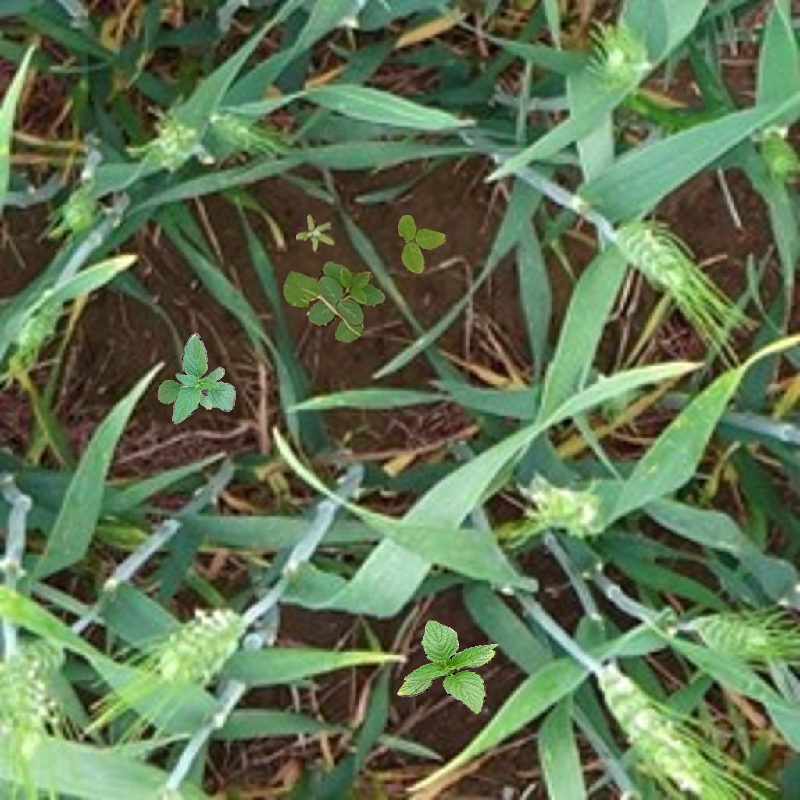spikelet: (592, 658, 717, 797), (149, 603, 249, 685), (621, 216, 696, 300), (1, 637, 57, 746), (584, 22, 654, 100), (525, 474, 608, 537), (689, 607, 778, 660), (205, 108, 284, 162), (147, 113, 204, 170), (59, 175, 97, 234)
weed: (377, 600, 519, 739), (147, 326, 240, 427), (302, 256, 394, 345), (398, 215, 447, 274), (277, 263, 325, 314), (296, 214, 336, 254), (334, 312, 367, 345)
